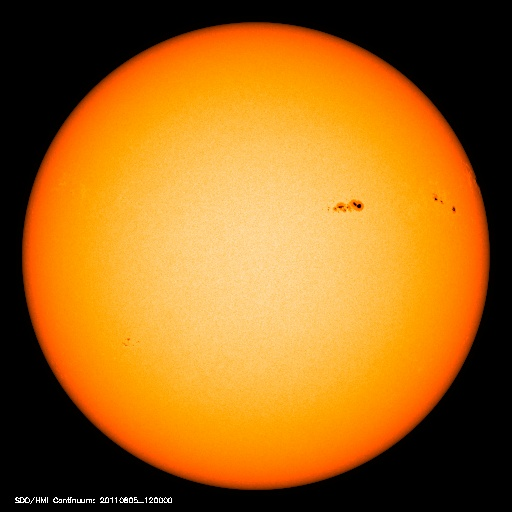sunspot: (317, 192, 370, 224), (418, 189, 461, 219)
